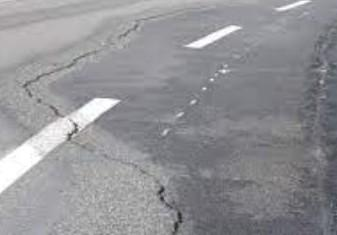alligator-crack: (303, 15, 337, 235)
crack: (67, 138, 195, 235), (23, 56, 77, 137), (76, 2, 223, 25), (82, 29, 135, 58)
